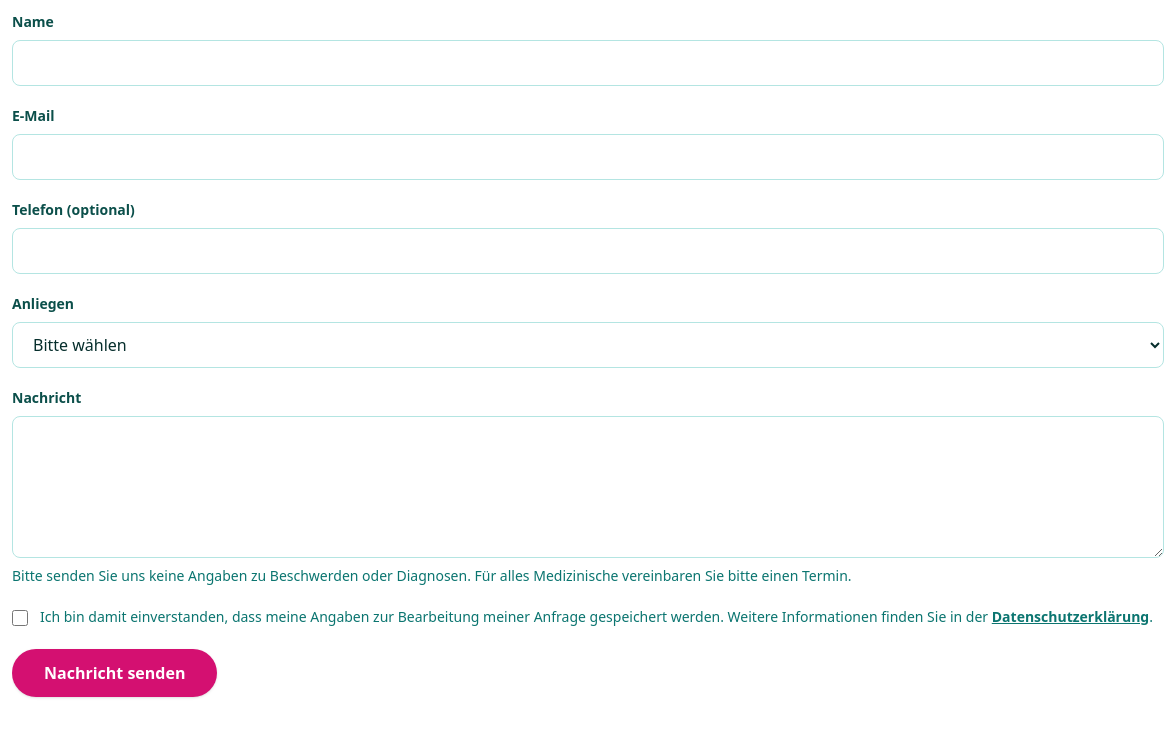
Scenario: ContactForm › requires the consent checkbox: submitting unchecked shows an error and does not POST
The width and height of the screenshot is (1176, 732).
Type "Maria Muster" into the field labelled "Name" at [588, 63], box [12,40,1164,86]
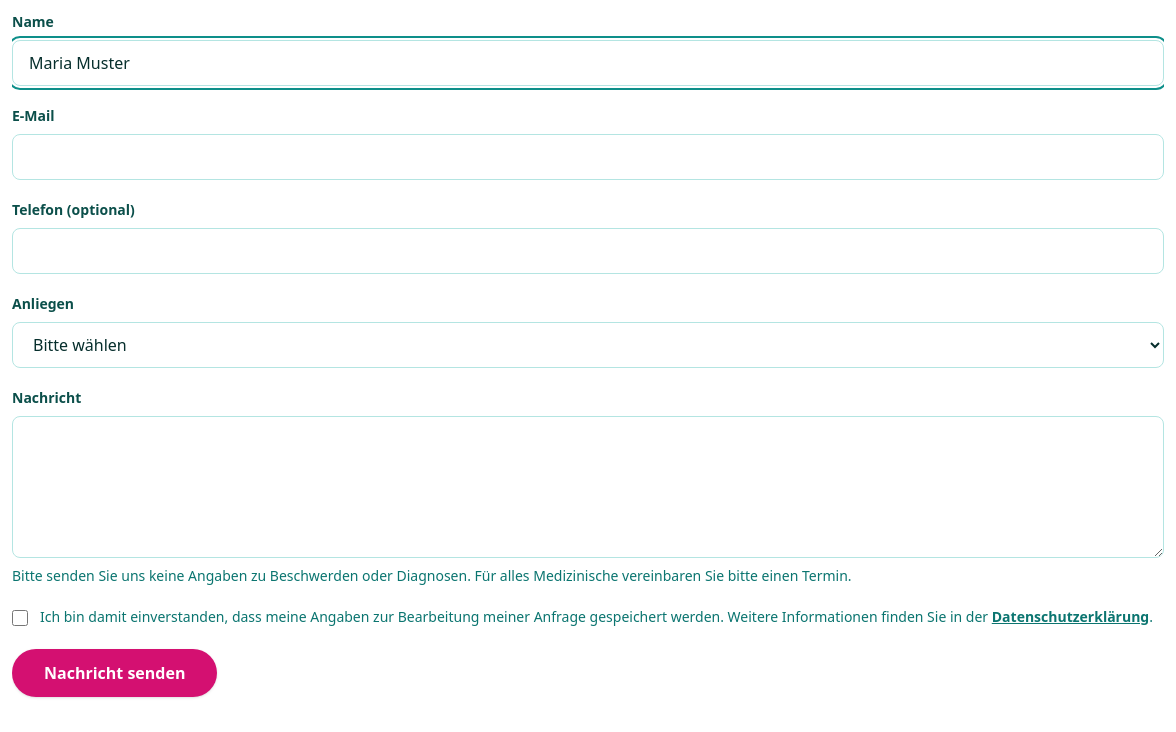
Type "maria@example.com" into the field labelled "E-Mail" at [588, 157], box [12,134,1164,180]
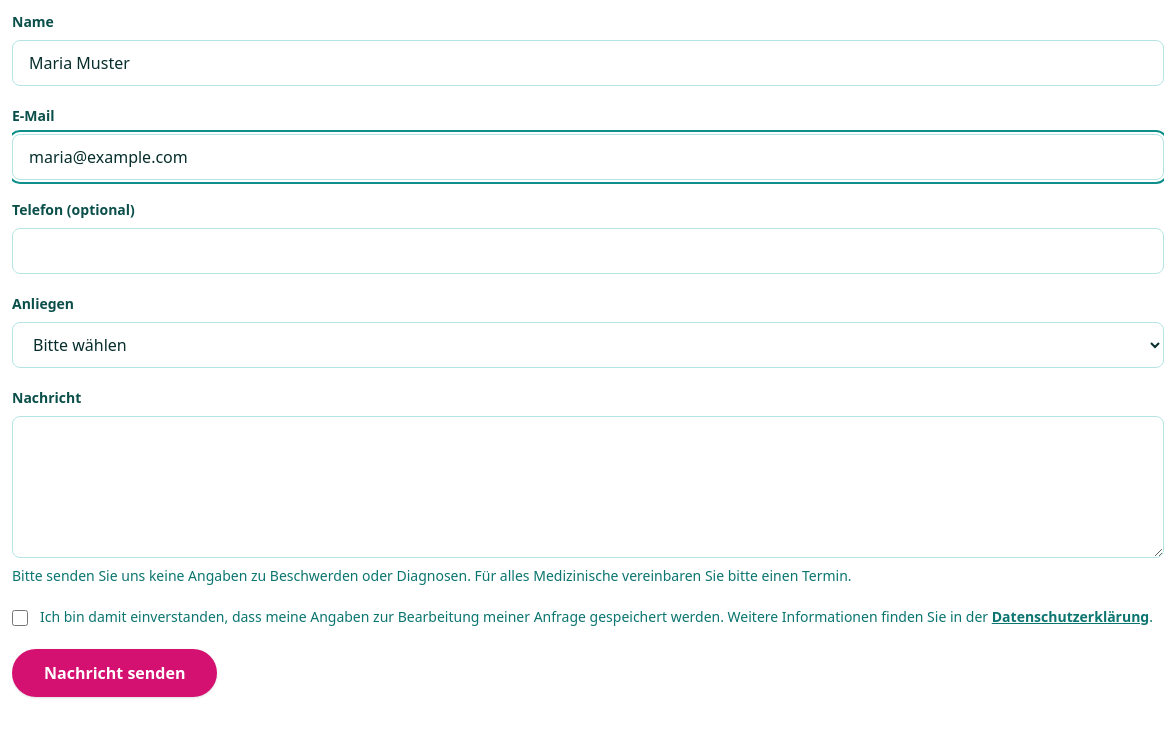
Type "Ich hätte gerne einen Rückruf." into the text box labelled "Nachricht" at [588, 487], box [12,416,1164,558]
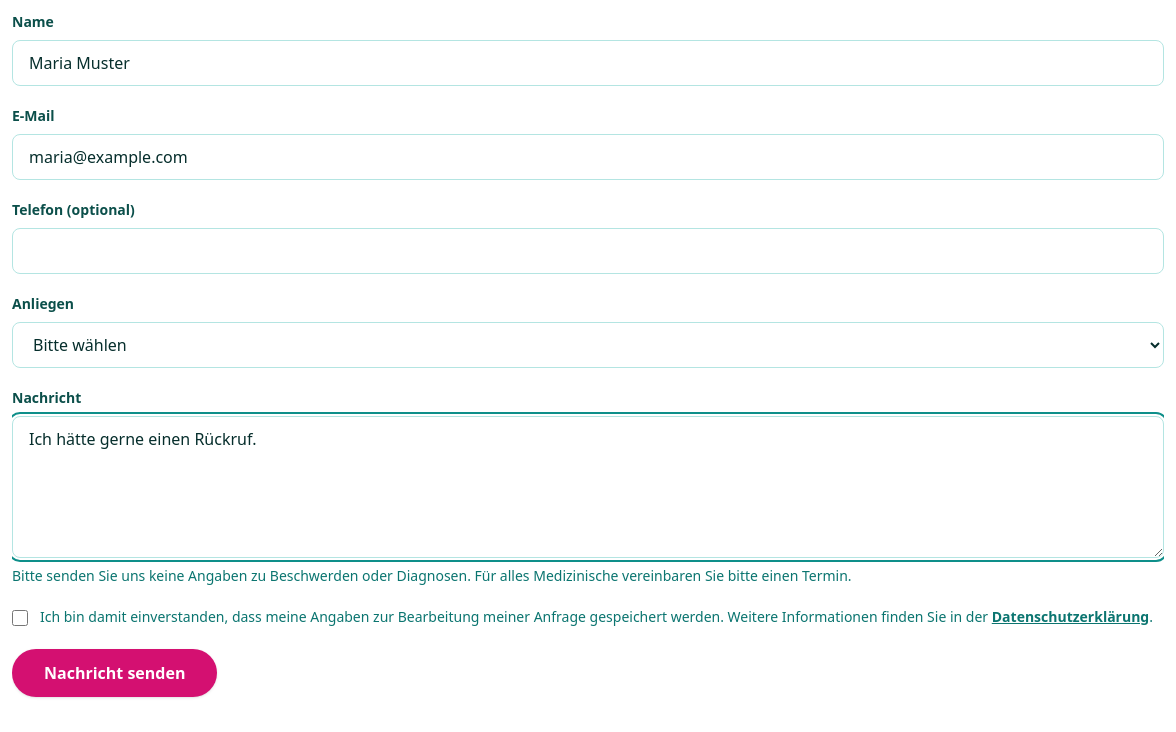
Click the button "Nachricht senden" at [115, 673], box [12,649,217,697]
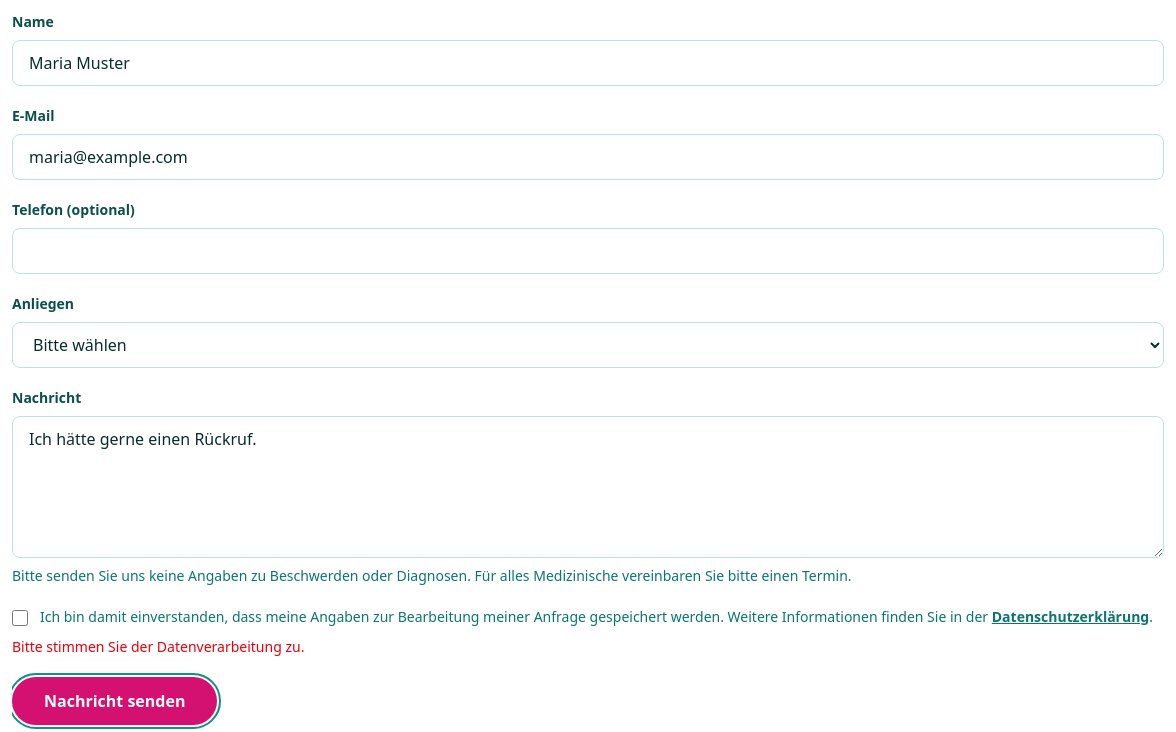
Expected: the text "Bitte stimmen Sie der Datenverarbeitung zu." is shown, [12,637,304,656]
